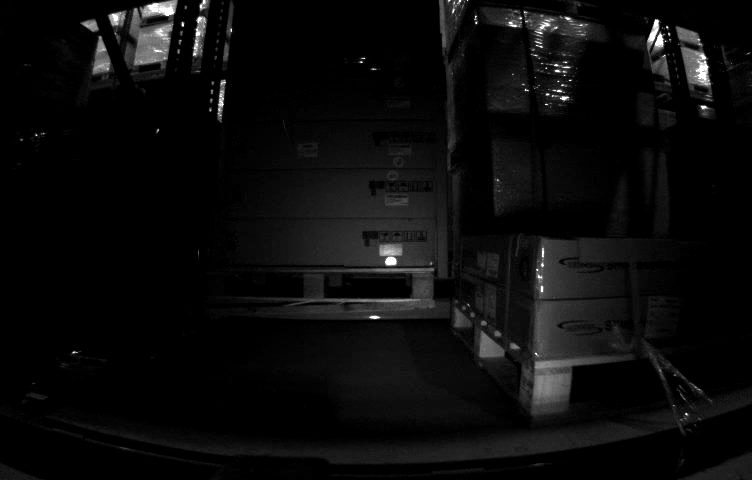True Barcode: (647, 295, 683, 342)
